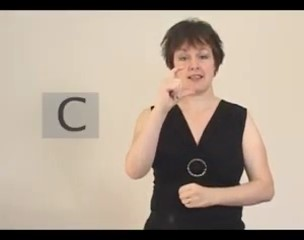C: (149, 64, 203, 107)
